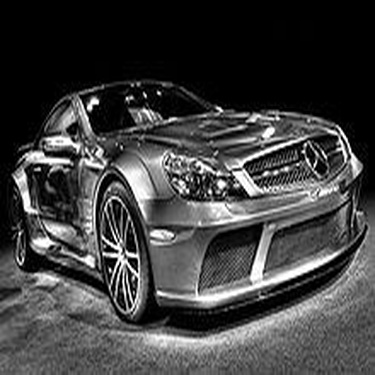car: (6, 72, 369, 329)
